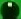black: (0, 0, 21, 19)
